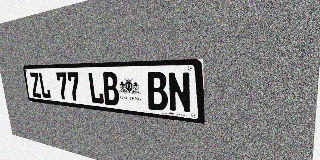7: (66, 72, 82, 102), (55, 72, 70, 101)
B: (146, 72, 168, 111), (101, 72, 120, 106)
L: (87, 72, 105, 105), (38, 72, 51, 99)
N: (167, 72, 192, 114)
Z: (29, 72, 42, 98)
